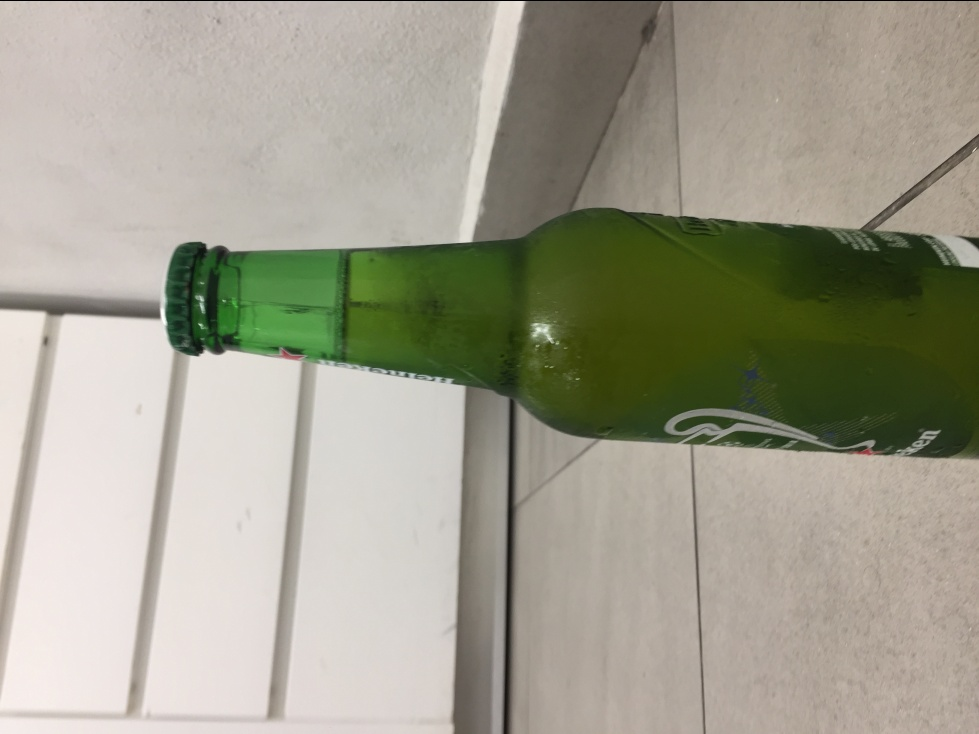heineken: (158, 201, 978, 463)
